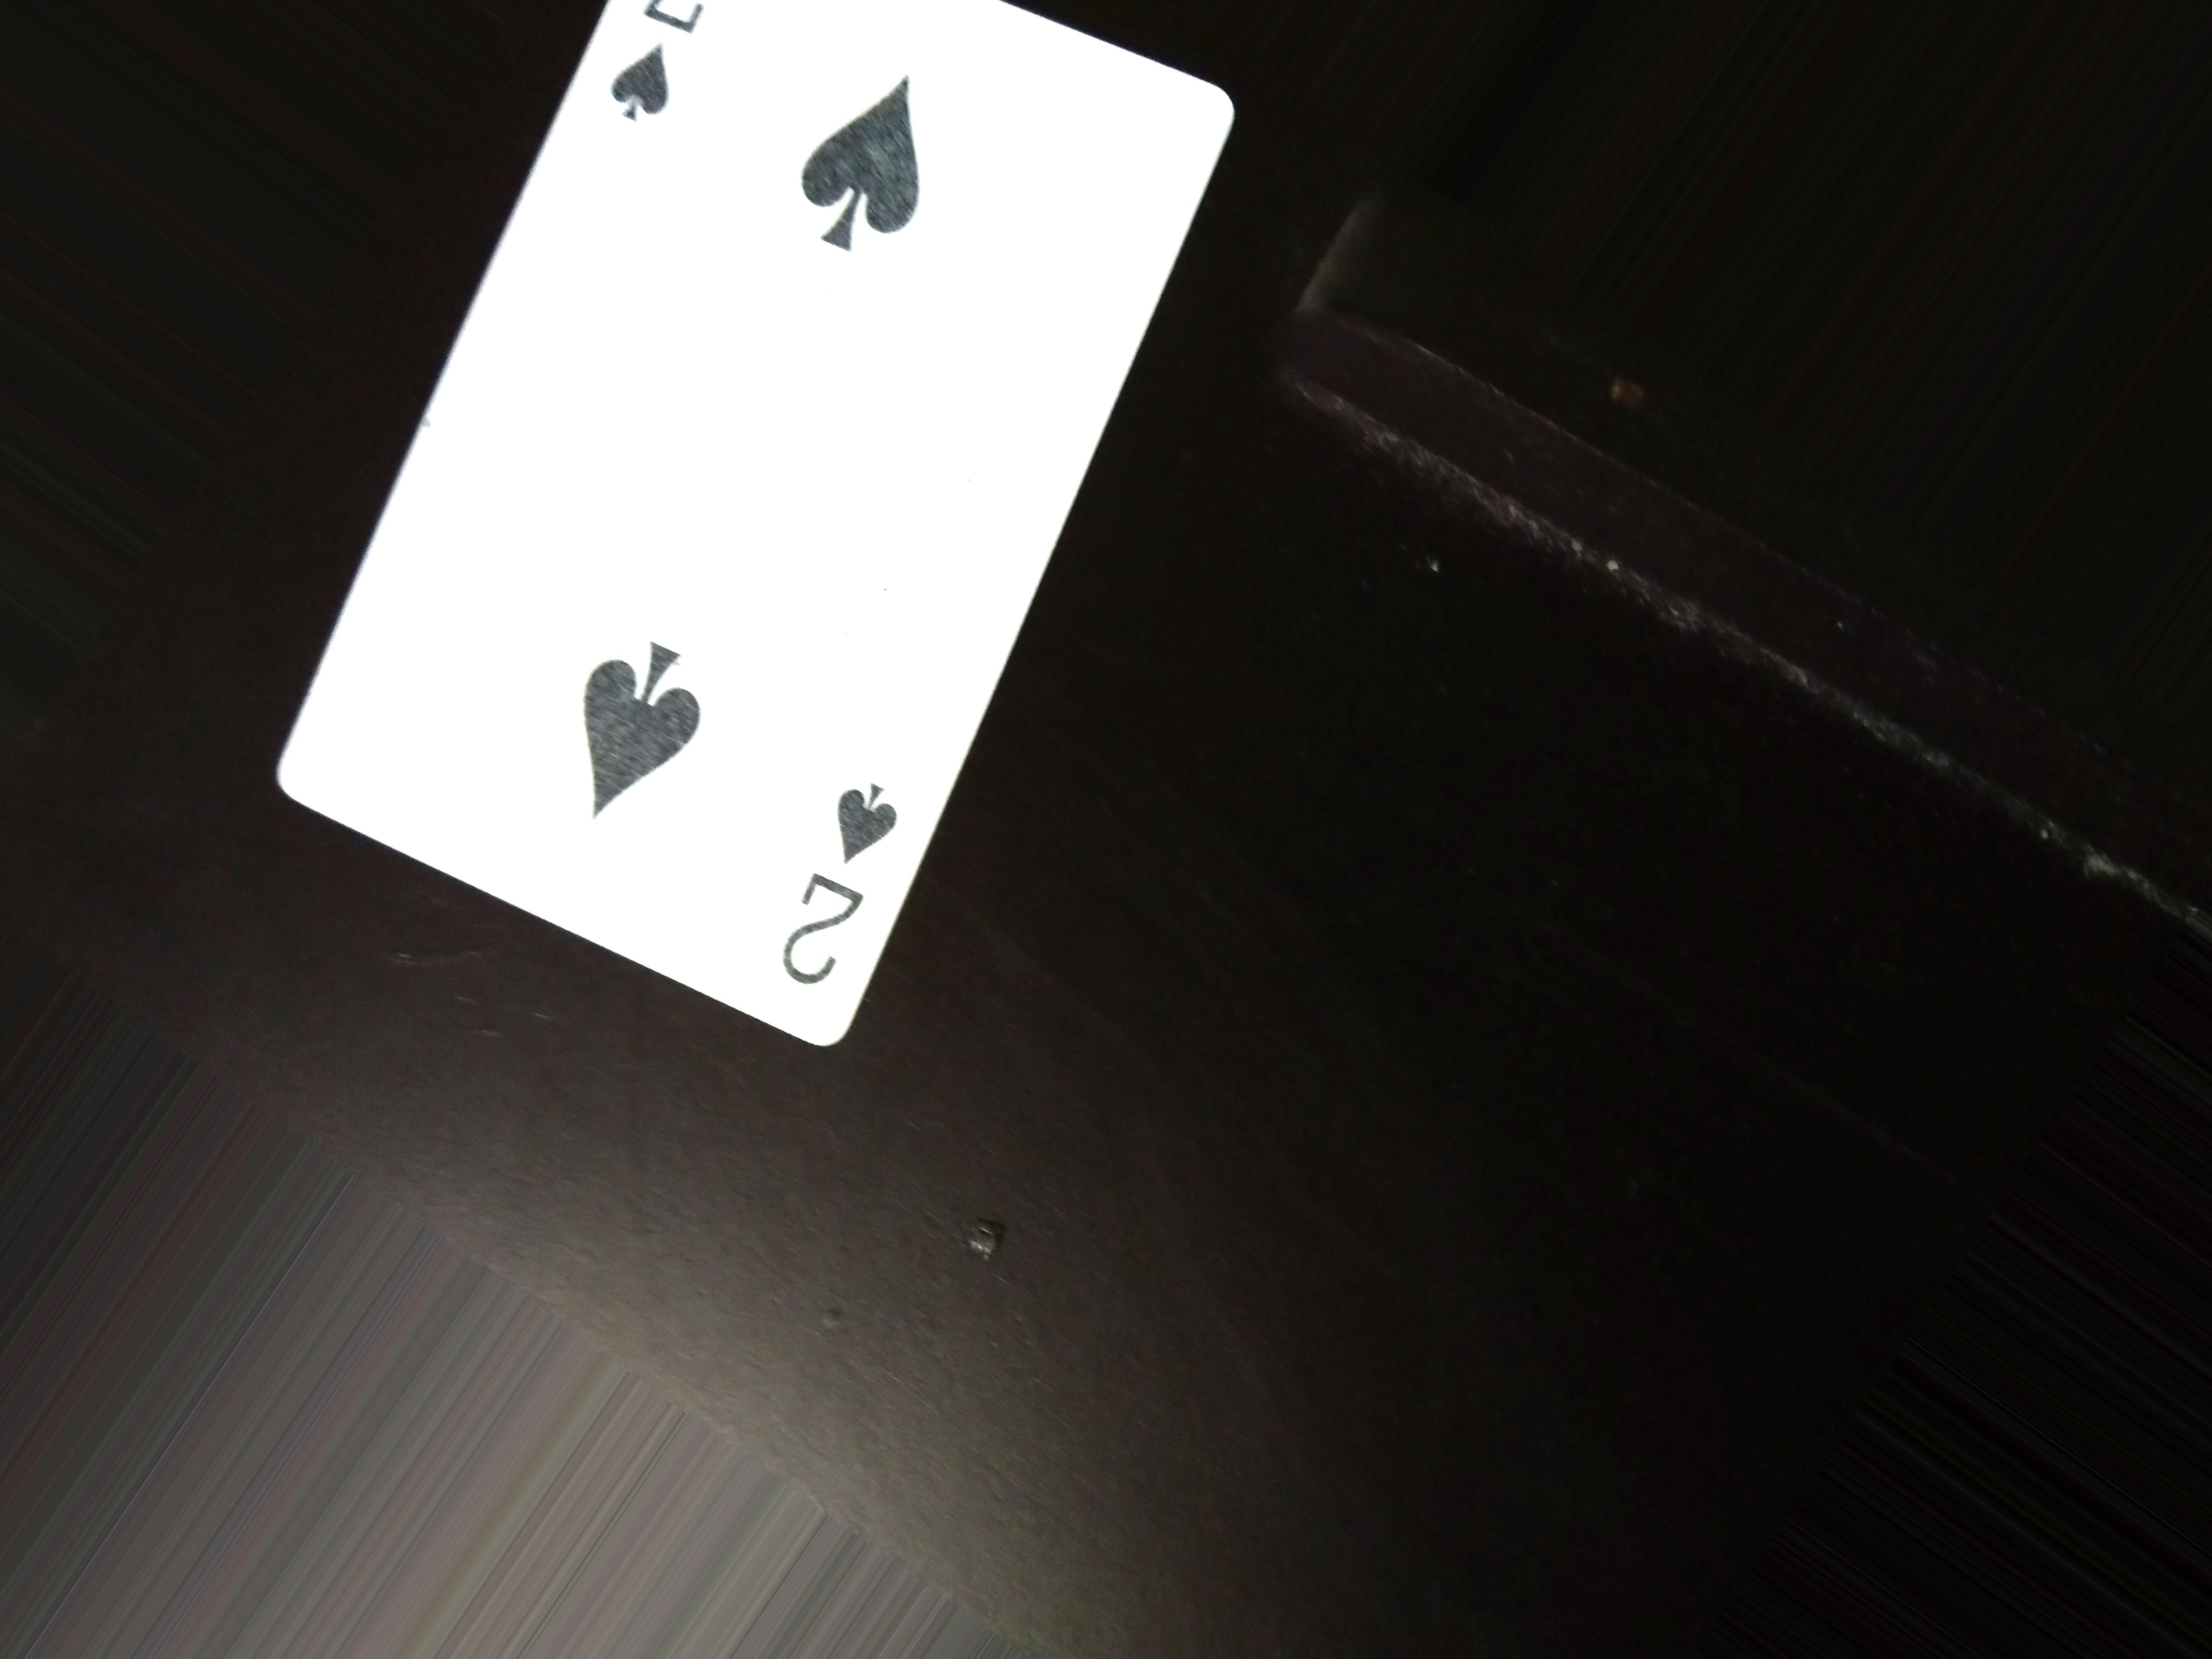2S: (780, 775, 880, 997)
